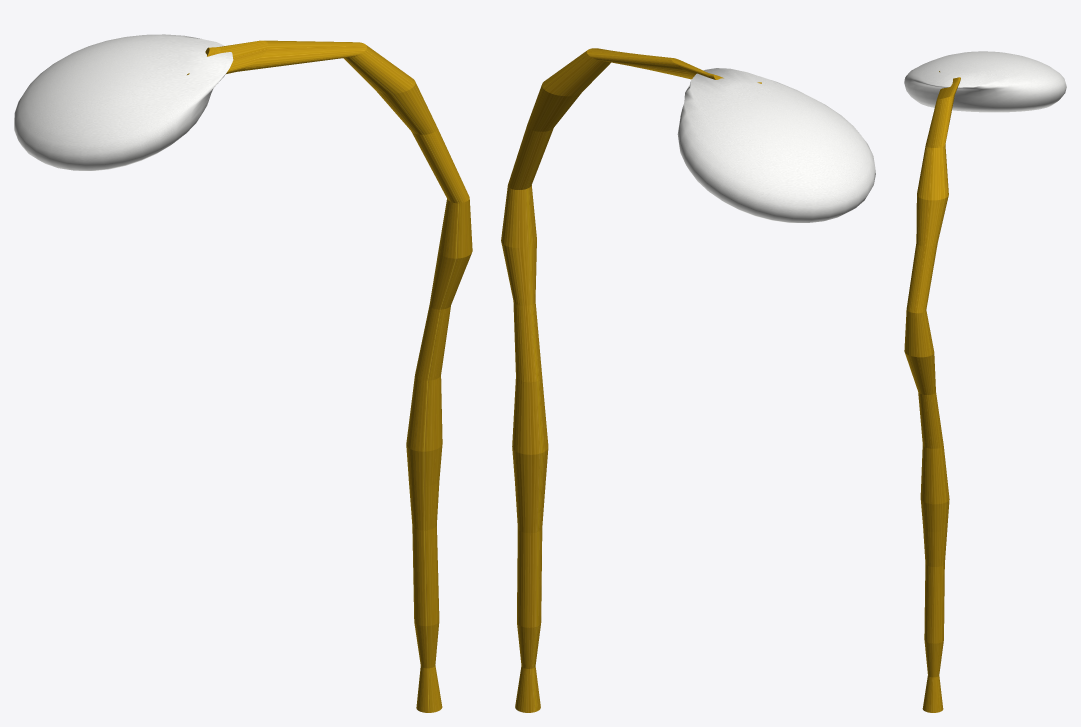
Rendered from lampara.obj.
3 renders of one model, left to right at view 1: azimuth 30°, elevation 25°; view 2: azimuth 150°, elevation 25°; view 3: azimuth 270°, elevation 25°, orthographic. The views are drawn at different scales.
Parts seen in each view (by area): view 1: lampara_Material.001, lampara_Material.003; view 2: lampara_Material.003, lampara_Material.001; view 3: lampara_Material.001, lampara_Material.003.
Part boxes in pixels (left/top/right/bottom): lampara_Material.001: left=187, top=40, right=472, bottom=712; lampara_Material.003: left=14, top=34, right=233, bottom=170; lampara_Material.003: left=677, top=68, right=875, bottom=222; lampara_Material.001: left=501, top=48, right=761, bottom=712; lampara_Material.001: left=904, top=71, right=960, bottom=712; lampara_Material.003: left=904, top=51, right=1066, bottom=112.
Size of the model in its own units: 3.15 by 5.68 by 1.4.
